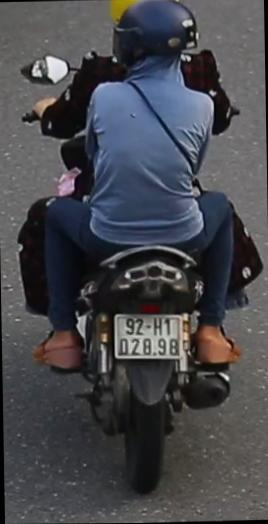LP: (110, 309, 184, 364)
helmet: (110, 0, 204, 62)
